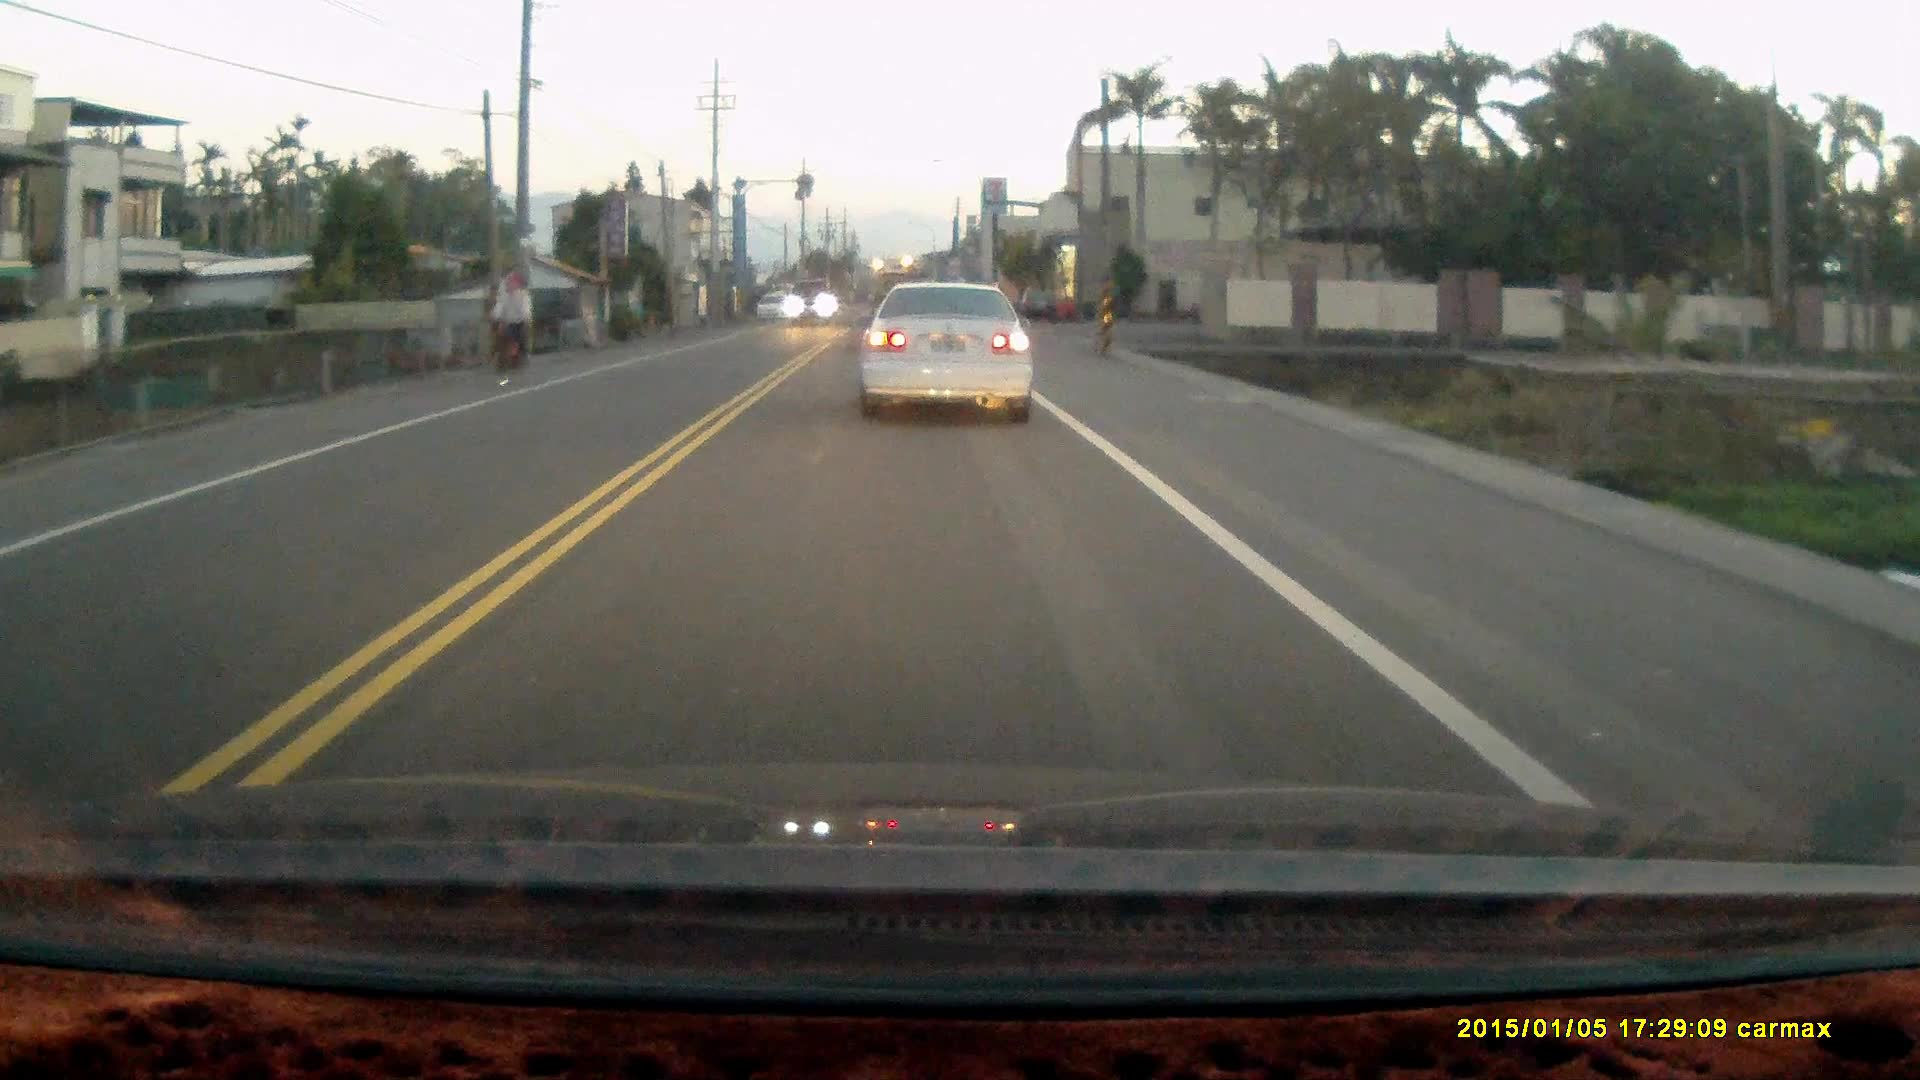rider: (482, 269, 533, 383)
vehicle: (857, 274, 1034, 419), (788, 277, 842, 326), (1016, 285, 1063, 323), (757, 291, 786, 321)
